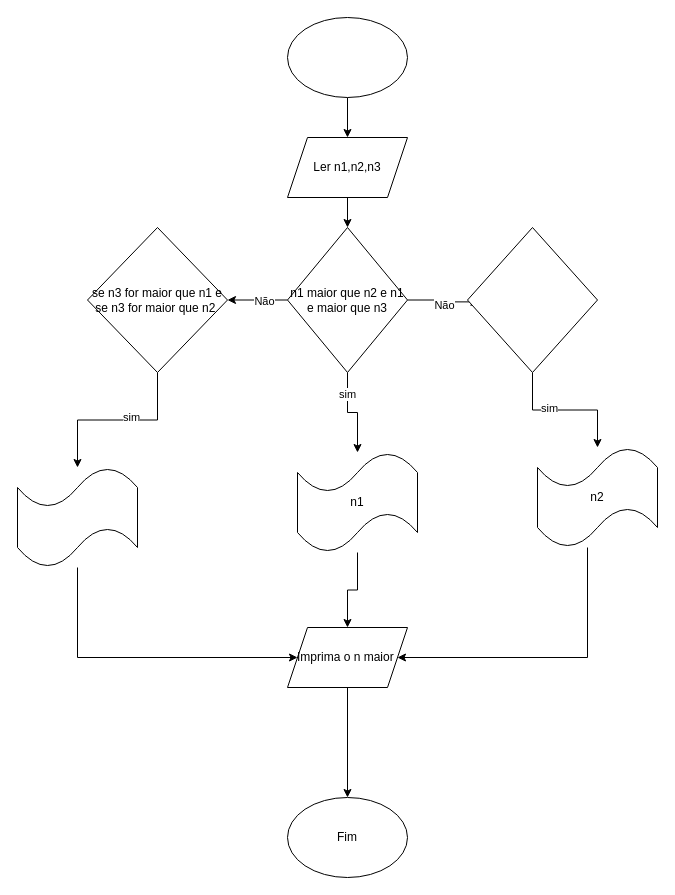
This 675x895 diagram has some shape labels left out. Here are the shapes that lost their labels. From the top down, the centre of each, then its label:
At (x=347, y=57): "Inico".
At (x=532, y=299): "se n2 for maior que n1 e que o n2 for maior que n3".
At (x=77, y=517): "n3".
